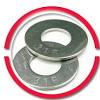No thread: (25, 51, 66, 80), (37, 29, 76, 55)
